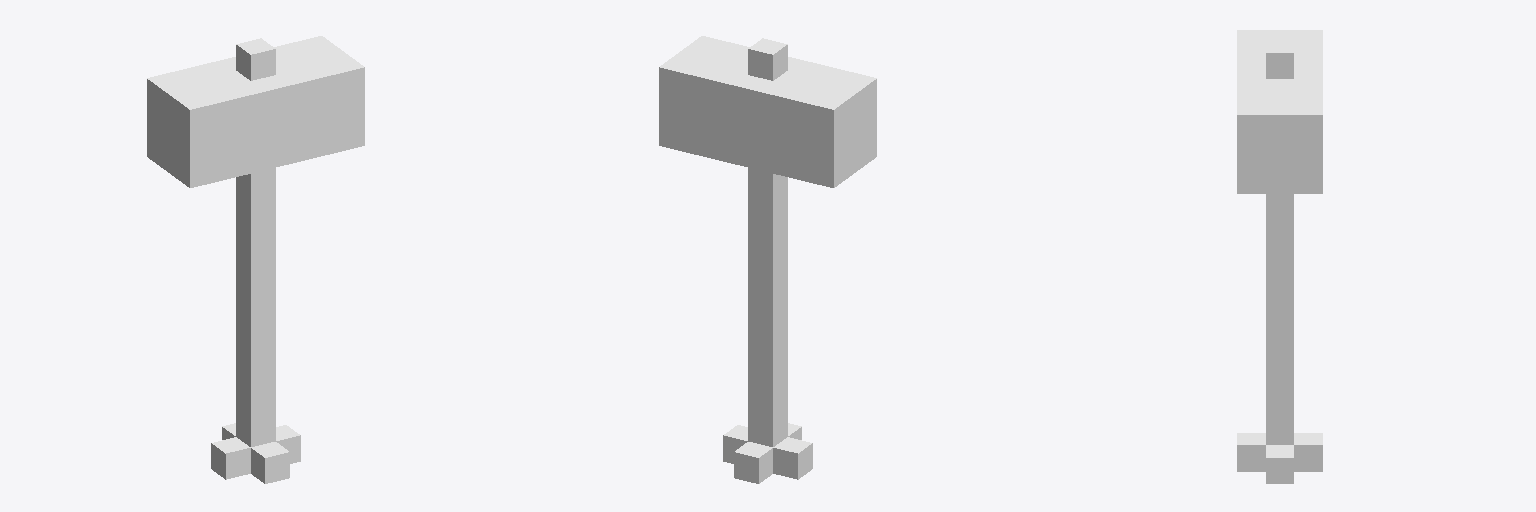
Rendered from hammer.obj.
3 renders of one model, left to right at view 1: azimuth 30°, elevation 25°; view 2: azimuth 150°, elevation 25°; view 3: azimuth 270°, elevation 25°, orthographic.
Parts seen in each view (by area): view 1: hammer; view 2: hammer; view 3: hammer.
Boxes of the visible parts, x1=… form: hammer: x1=147, y1=36, x2=364, y2=483; hammer: x1=659, y1=36, x2=876, y2=483; hammer: x1=1237, y1=30, x2=1322, y2=483.
Size of the model in its own units: 7.5 by 17.14 by 3.21.